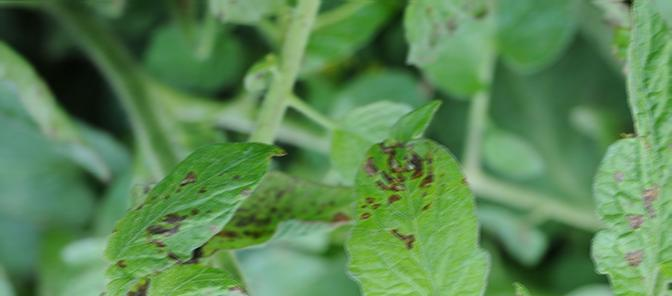Tomato leaf bacterial spot: (87, 116, 252, 296), (355, 97, 494, 296), (584, 0, 672, 296)
